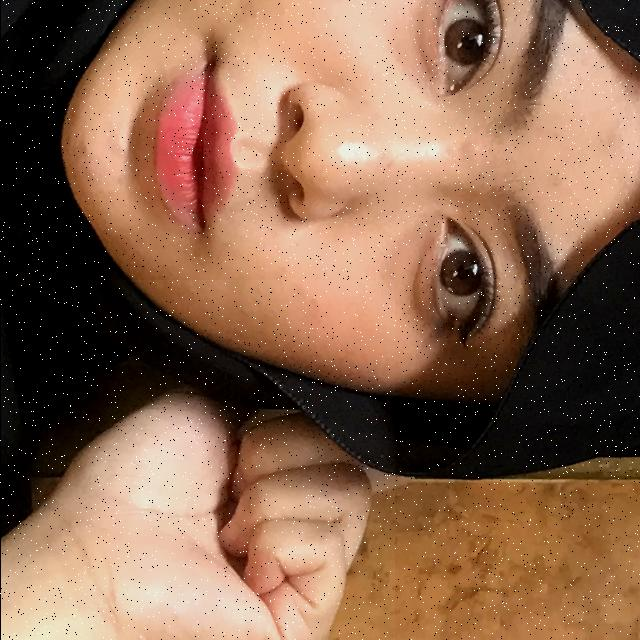ibu: (0, 280, 394, 640)
